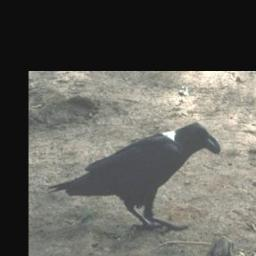Crow: (45, 120, 220, 234)
